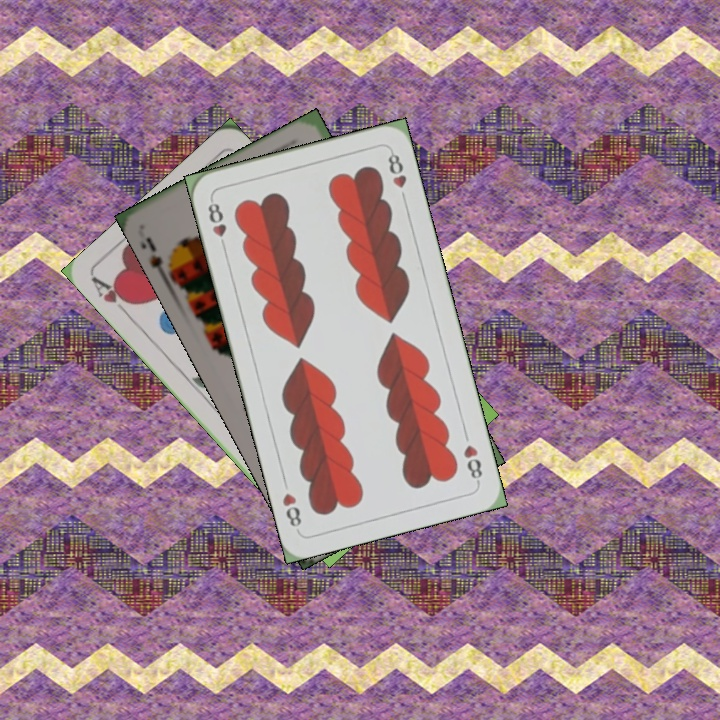H8: (204, 195, 229, 253), (459, 440, 485, 486)
HA: (88, 273, 137, 322)
S9: (142, 232, 180, 285)
